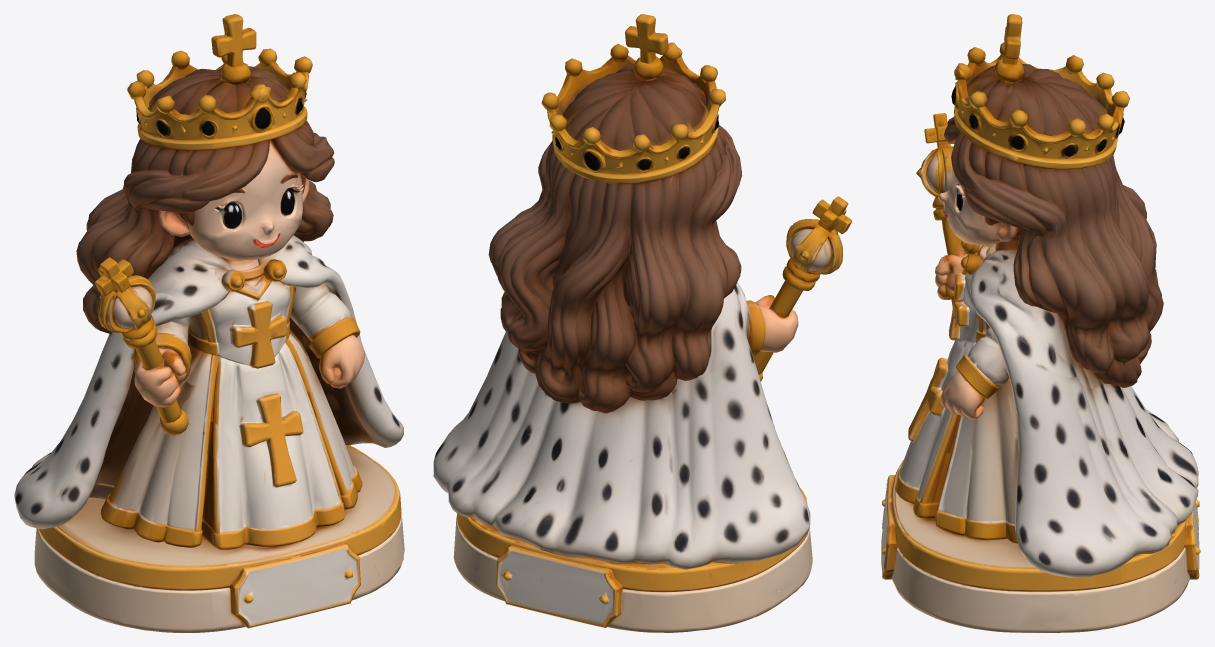
File: child-crusader-q-budget50.glb
3 renders of one model, left to right at view 1: azimuth 30°, elevation 25°; view 2: azimuth 150°, elevation 25°; view 3: azimuth 270°, elevation 25°, orthographic. The views are drawn at different scales.
Parts seen in each view (by area): view 1: node_0; view 2: node_0; view 3: node_0.
Boxes of the visible parts, x1,y1,x2,y2 form: node_0: [14, 14, 404, 632]; node_0: [433, 14, 852, 632]; node_0: [881, 14, 1200, 632].
Bounding box in the file's own units: 0.7227 × 1.03 × 0.5492.
Materials: 1 (1 with a texture image).
